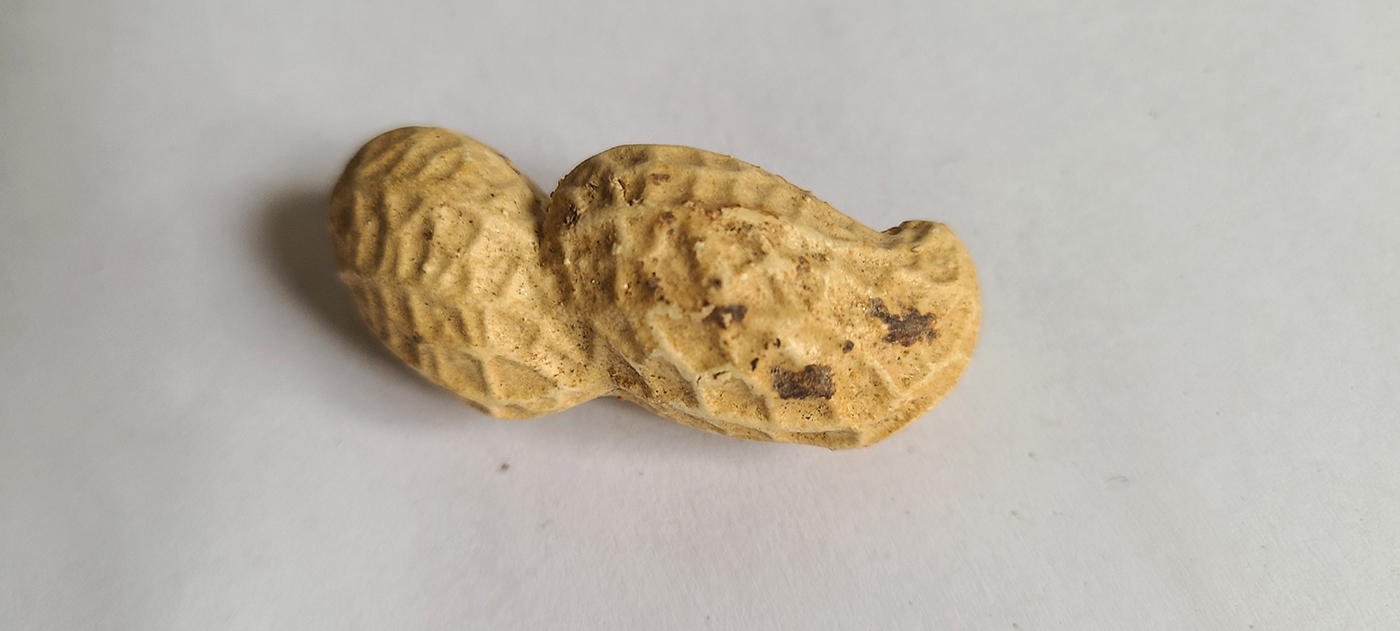h: (326, 123, 983, 453)
